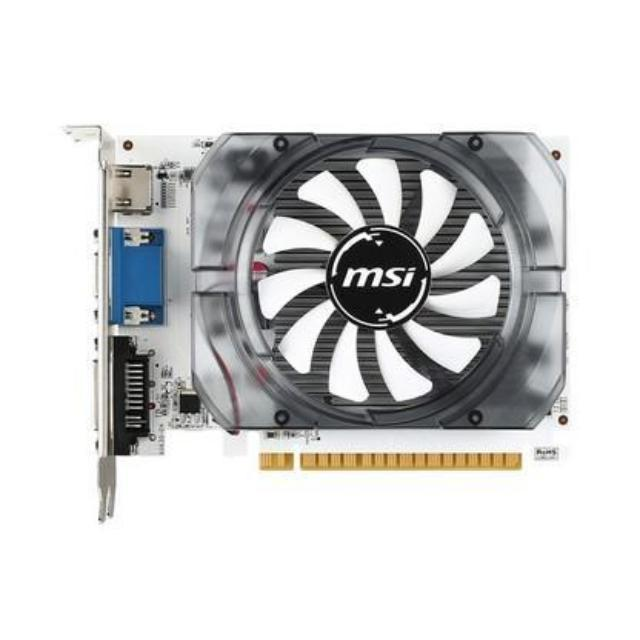GPU: (92, 127, 574, 476)
